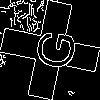G: (25, 25, 78, 73)
